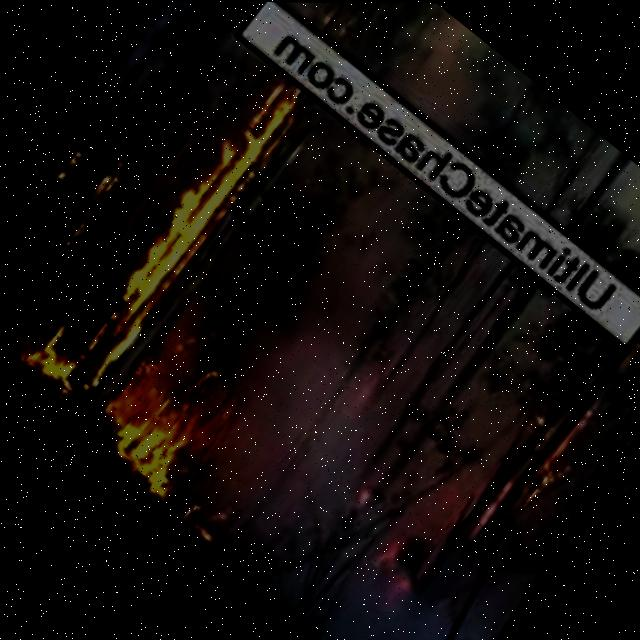Fire: (57, 77, 309, 355), (12, 250, 213, 502), (493, 397, 606, 517), (66, 149, 136, 220), (603, 278, 640, 376), (34, 144, 84, 195)
Smoke: (0, 0, 640, 640), (219, 1, 640, 278)
